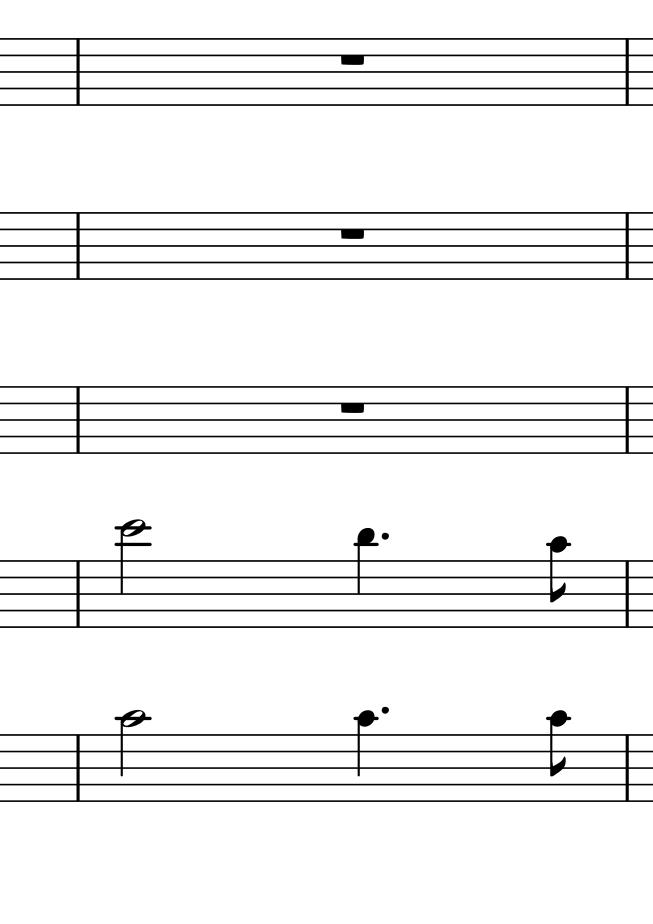2_10: (118, 708, 147, 805)
2_12: (118, 519, 151, 630)
4_10: (355, 709, 376, 803)
4_11: (353, 526, 376, 630)
8_10: (546, 534, 571, 631), (546, 707, 570, 806)
Rests1: (333, 49, 370, 69), (337, 223, 367, 243), (335, 400, 369, 415)
Single_barline: (69, 38, 89, 105), (619, 37, 639, 104), (617, 211, 637, 278), (618, 386, 638, 453), (72, 212, 85, 280), (72, 386, 85, 454), (73, 560, 86, 628), (70, 733, 83, 801), (622, 559, 635, 627), (620, 733, 633, 801)
dot: (379, 527, 391, 543), (379, 703, 390, 716)
